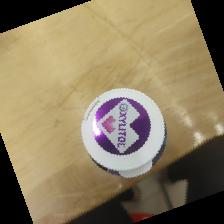Xylitol_BTS: (81, 88, 168, 180)
